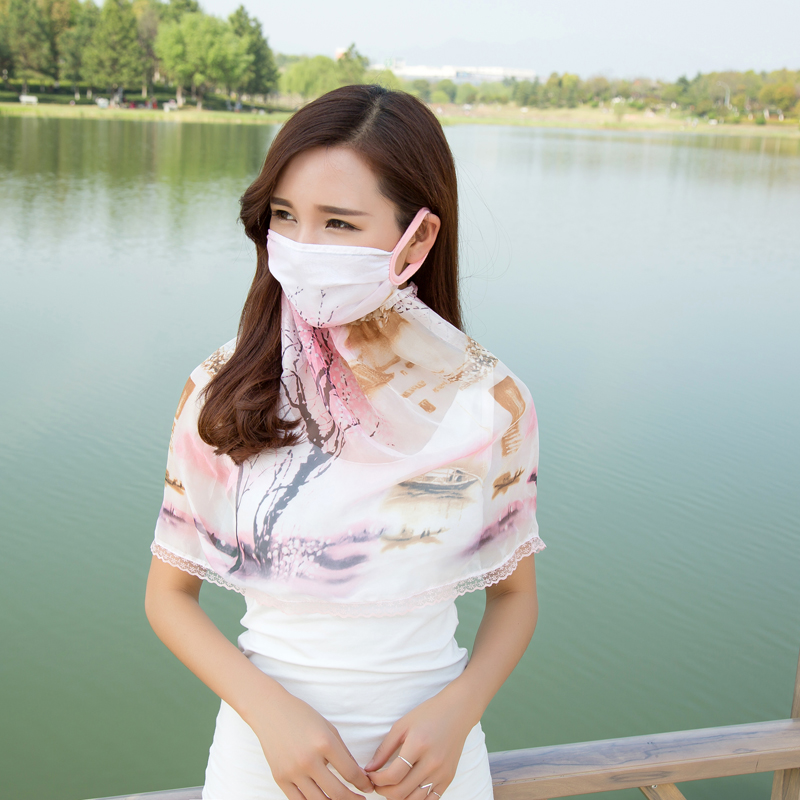face_mask: (263, 142, 400, 323)
